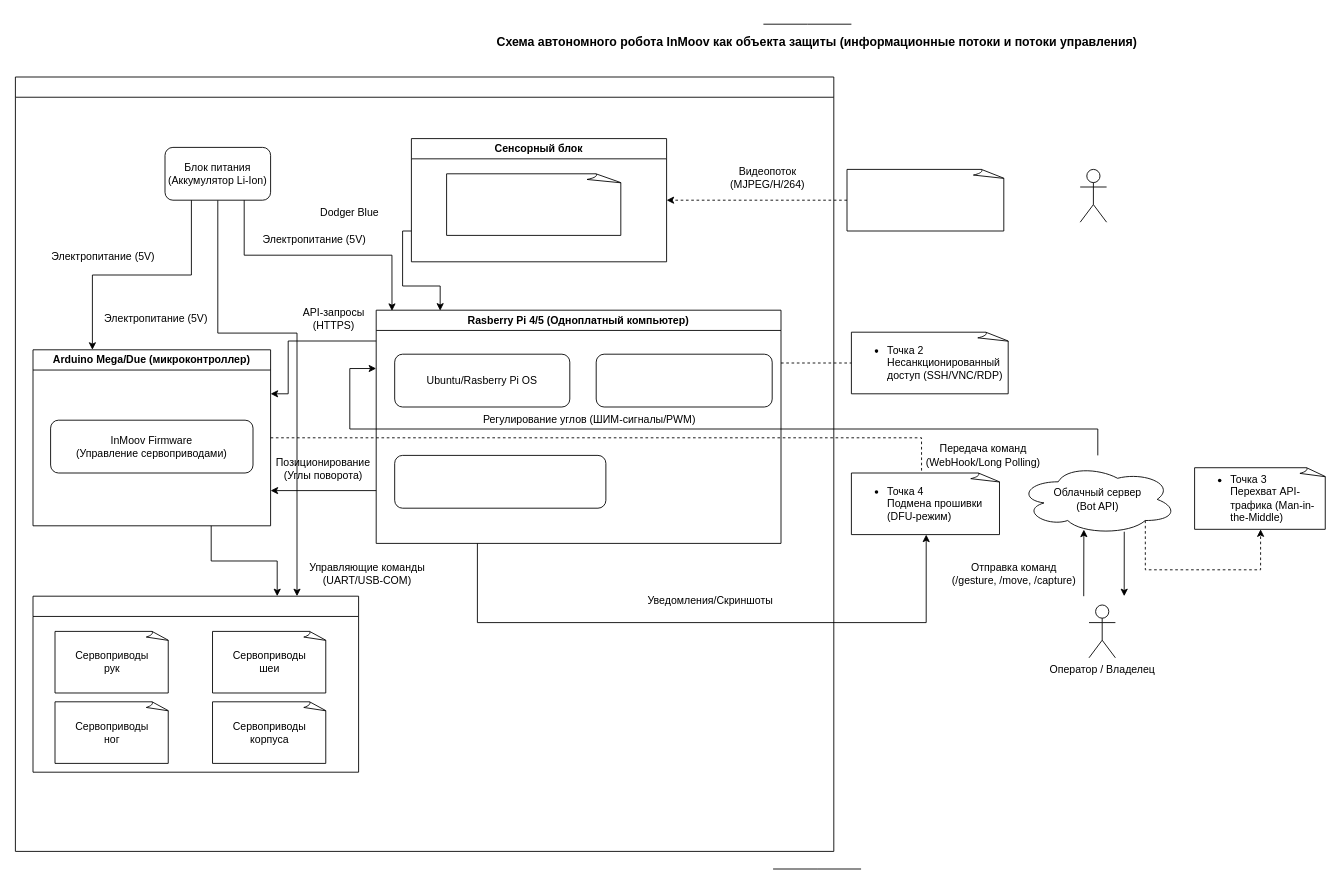
Some shapes in this 1342 by 885 pixel diagram are drawn without their labels. The box of each missing label's shape, as (x1, y1, x2, y2) in pixels:
Python-скрипт (Telegram/Web-сервер): (394, 455, 606, 508)
ROS (Robot Operation System): (595, 353, 772, 407)
Блок сервоприводов: (32, 595, 359, 772)
Граница информационной системы (Объект защиты: InMoov): (15, 76, 834, 851)
Злоумышленник (Внешний нарушитель): (1079, 169, 1107, 222)
Камера (Видеопоток): (446, 173, 623, 235)
Точка 1 Перехват видеопотока (USB/CSI-шлейф): (846, 169, 1005, 231)
